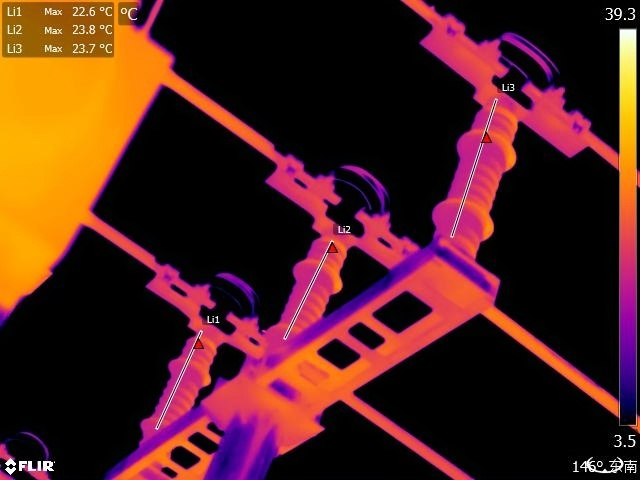post insulator: (417, 101, 525, 256), (126, 334, 218, 451), (270, 224, 344, 351)
